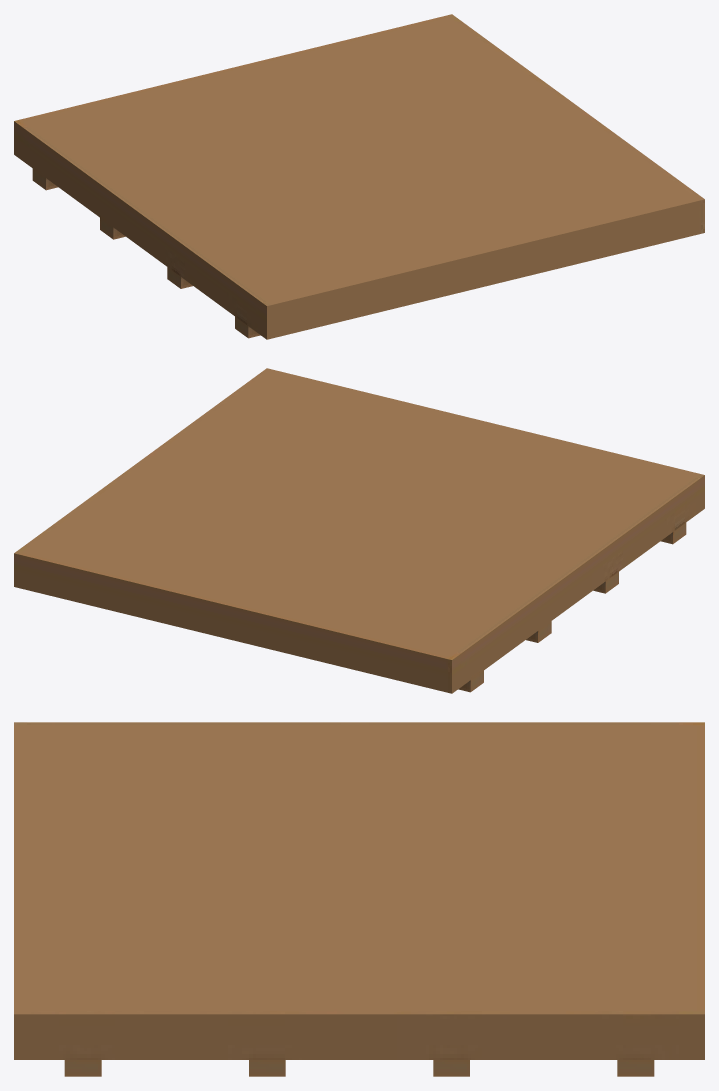
Rendered from BD_floor.glb.
3 views of the same model, one above another, from view 1: azimuth 30°, elevation 25°; view 2: azimuth 150°, elevation 25°; view 3: azimuth 270°, elevation 25° (orthographic). The views are drawn at different scales.
Visible parts, largest first — view 1: BD_floor; view 2: BD_floor; view 3: BD_floor.
Part boxes in pixels (x1,y1,x2,y2): BD_floor: (14, 14, 704, 339); BD_floor: (14, 368, 704, 693); BD_floor: (14, 722, 704, 1076).
Bounding box in the file's own units: 3 × 0.3 × 3.
Materials: 1 (1 with a texture image).
